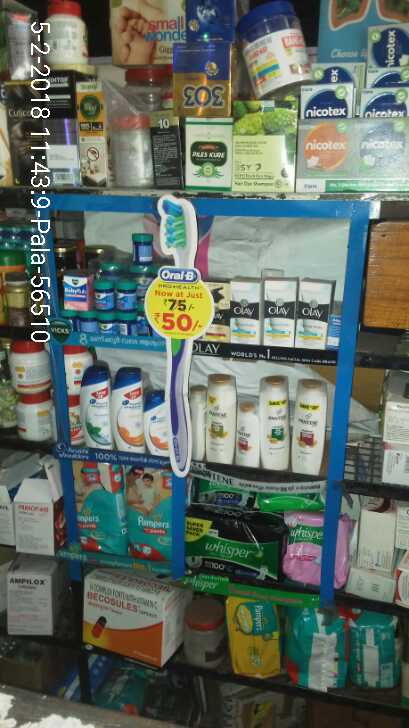vicks: (61, 231, 150, 333)
